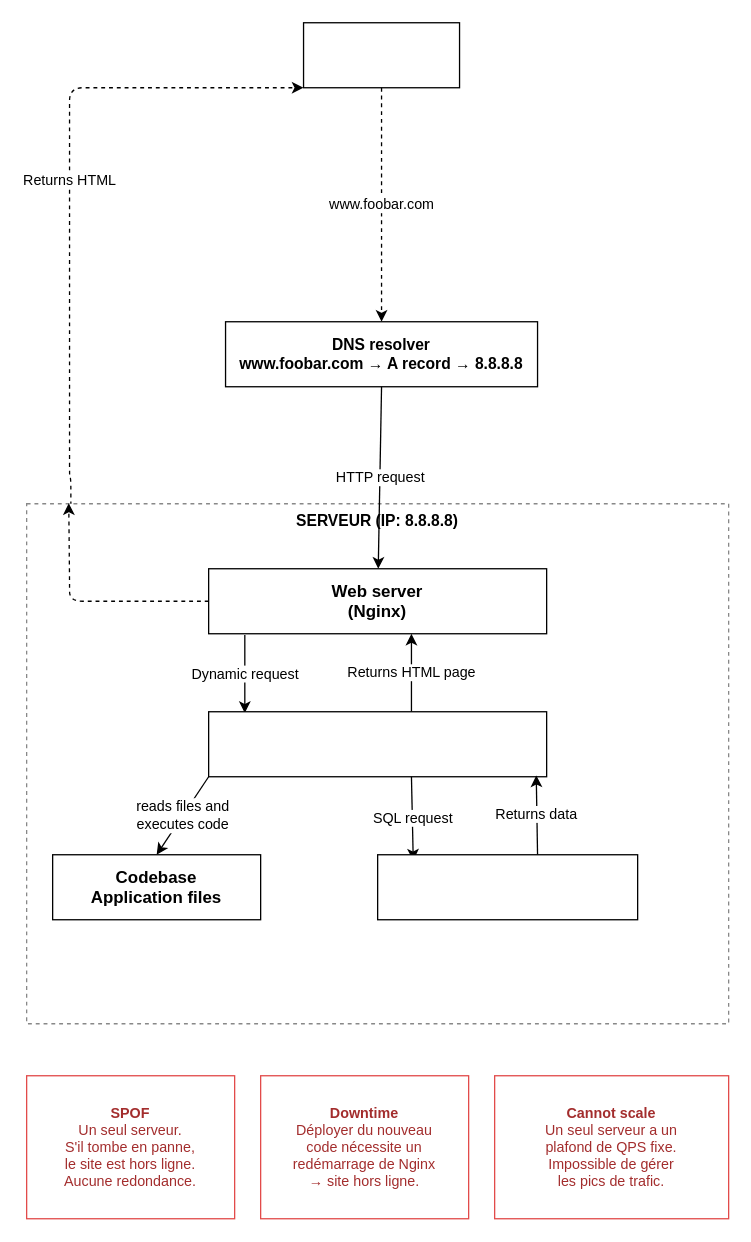
This 751x1242 diagram has some shape labels left out. The box of each missing label's shape, as (x1, y1, x2, y2) in pixels:
Application server Runs business logic: (207, 710, 547, 777)
MySQL Stores persistent data: (376, 853, 638, 920)
User: (302, 21, 460, 88)
